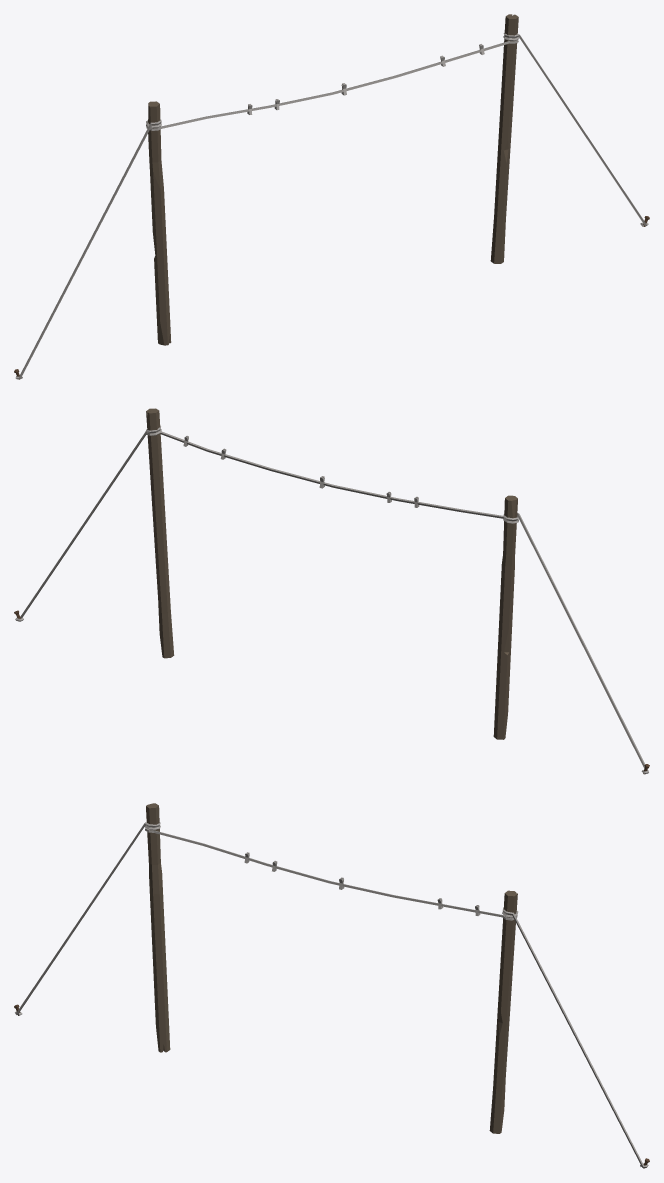
Rendered from SM_Props_Farm_Clothesline_01.fbx.
3 views of the same model, one above another, from view 1: azimuth 30°, elevation 25°; view 2: azimuth 150°, elevation 25°; view 3: azimuth 330°, elevation 25° (orthographic).
Parts seen in each view (by area): view 1: SM_Props_Farm_Clothesline_01; view 2: SM_Props_Farm_Clothesline_01; view 3: SM_Props_Farm_Clothesline_01.
Boxes of the visible parts, left/top/right/bottom form: SM_Props_Farm_Clothesline_01: left=14, top=14, right=649, bottom=379; SM_Props_Farm_Clothesline_01: left=14, top=408, right=649, bottom=774; SM_Props_Farm_Clothesline_01: left=14, top=803, right=649, bottom=1168.
Size of the model in its own units: 668 by 244 by 15.27.
